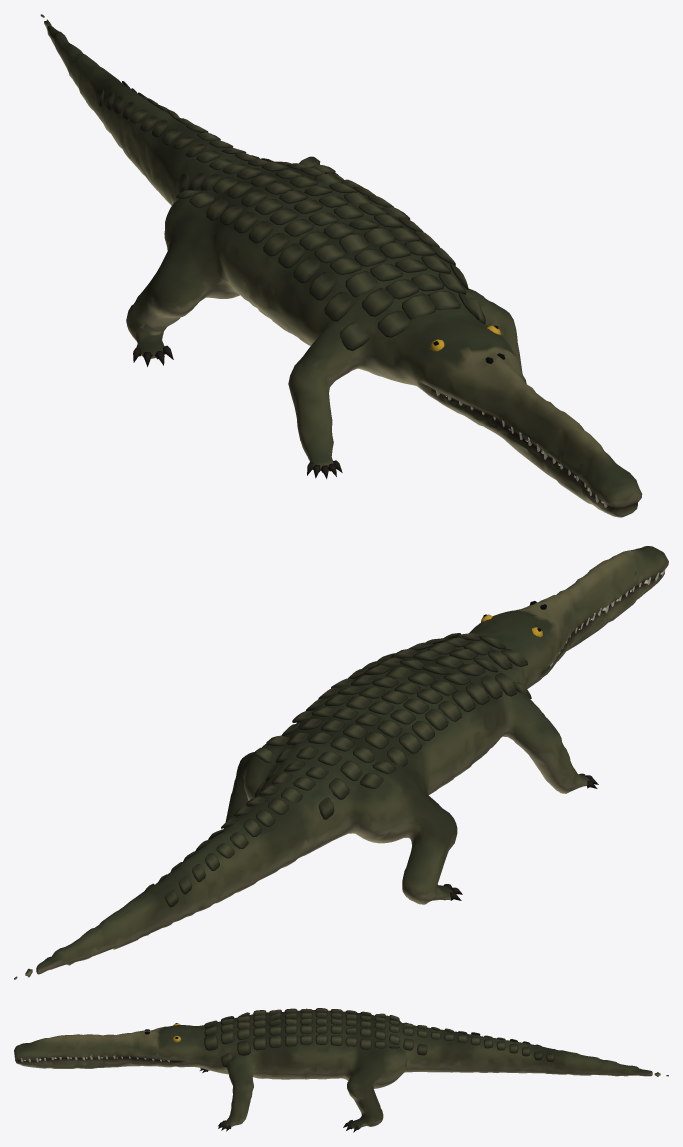
The model's file is Smilosuchus.fbx.
The picture shows the model from 3 angles, top to bottom: view 1: azimuth 30°, elevation 25°; view 2: azimuth 150°, elevation 25°; view 3: azimuth 270°, elevation 25°; orthographic projection. The views are drawn at different scales.
Visible parts, largest first — view 1: Smilosuchus; view 2: Smilosuchus; view 3: Smilosuchus.
Boxes of the visible parts, box(x1,y1,x2,y2) form: Smilosuchus: box(40, 14, 642, 517); Smilosuchus: box(14, 546, 668, 979); Smilosuchus: box(14, 1008, 668, 1132).
Bounding box in the file's own units: 0.4854 × 0.2846 × 2.
